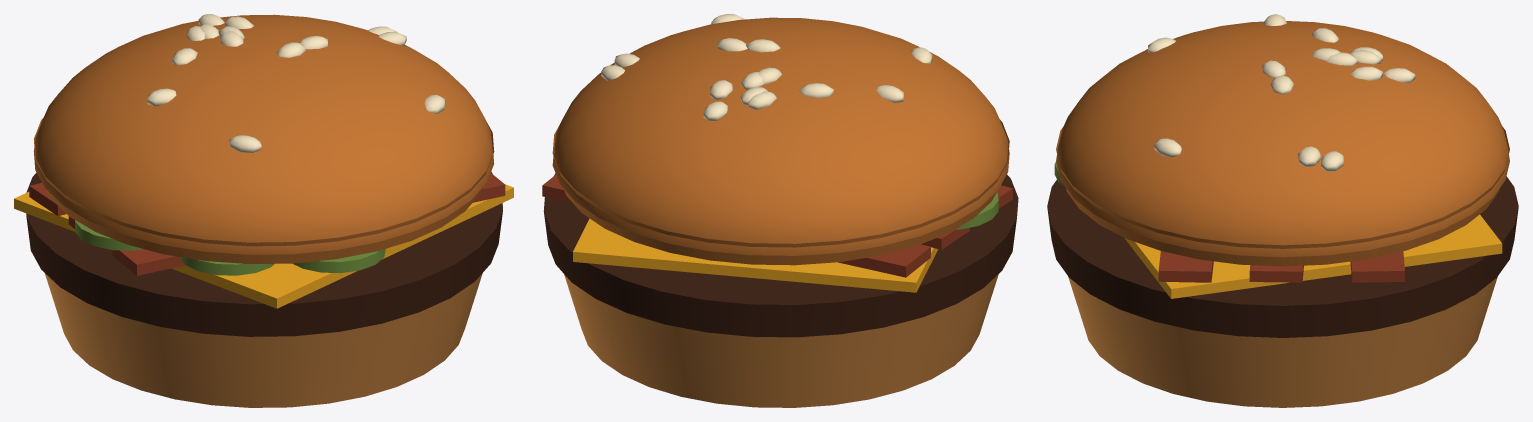
File: american-basic.glb
3 renders of one model, left to right at view 1: azimuth 30°, elevation 25°; view 2: azimuth 150°, elevation 25°; view 3: azimuth 270°, elevation 25°, orthographic.
Size of the model in its own units: 0.1653 by 0.105 by 0.1653.
